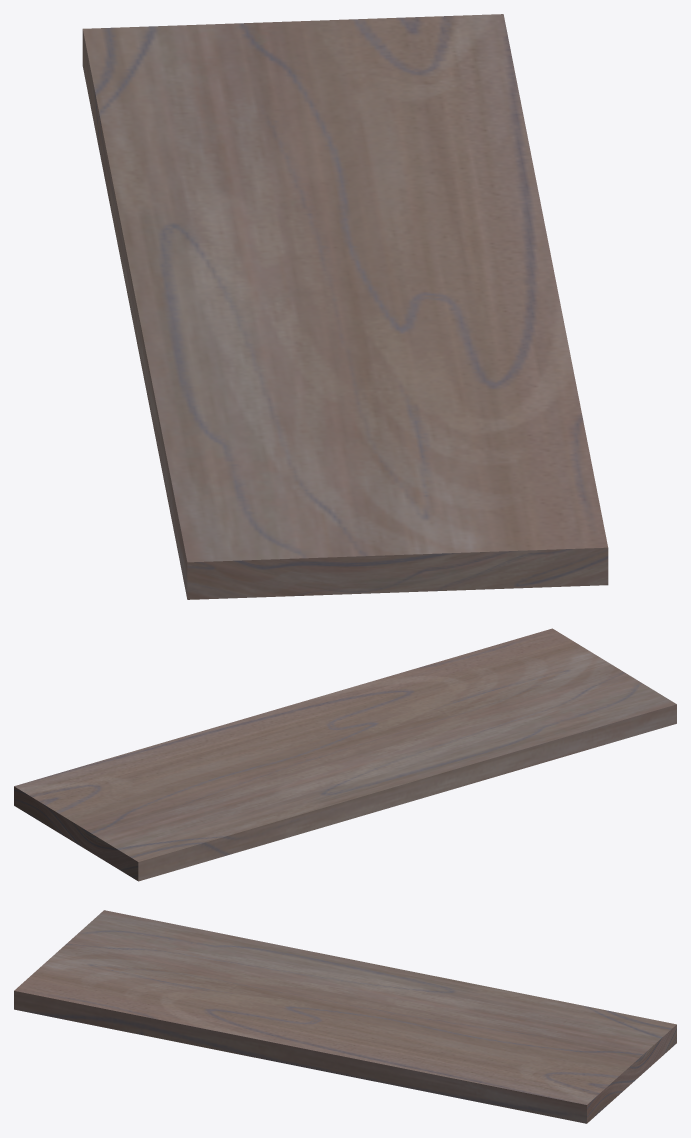
The model's file is plank_017.fbx.
3 views of the same model, one above another, from view 1: azimuth 30°, elevation 25°; view 2: azimuth 150°, elevation 25°; view 3: azimuth 270°, elevation 25° (orthographic). The views are drawn at different scales.
Visible parts, largest first — view 1: plank.017; view 2: plank.017; view 3: plank.017.
Boxes of the visible parts, left/top/right/bottom form: plank.017: left=82, top=14, right=608, bottom=599; plank.017: left=14, top=628, right=676, bottom=881; plank.017: left=14, top=910, right=676, bottom=1123.
Size of the model in its own units: 22.2 by 0.9957 by 31.9.
